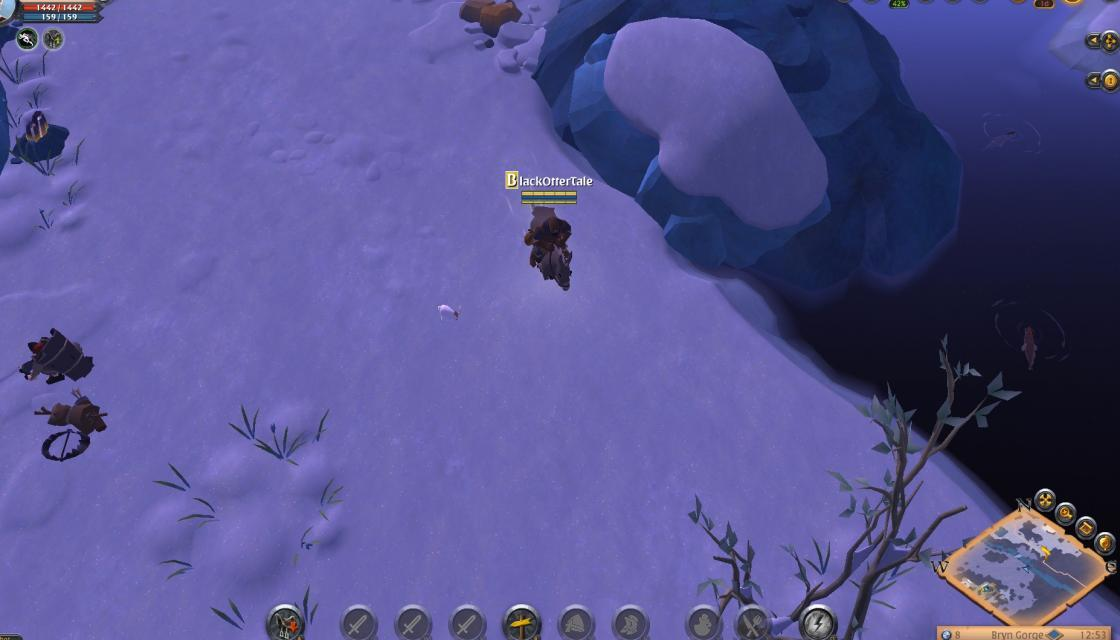copperore: (11, 110, 71, 164)
limestone: (456, 0, 525, 38)
